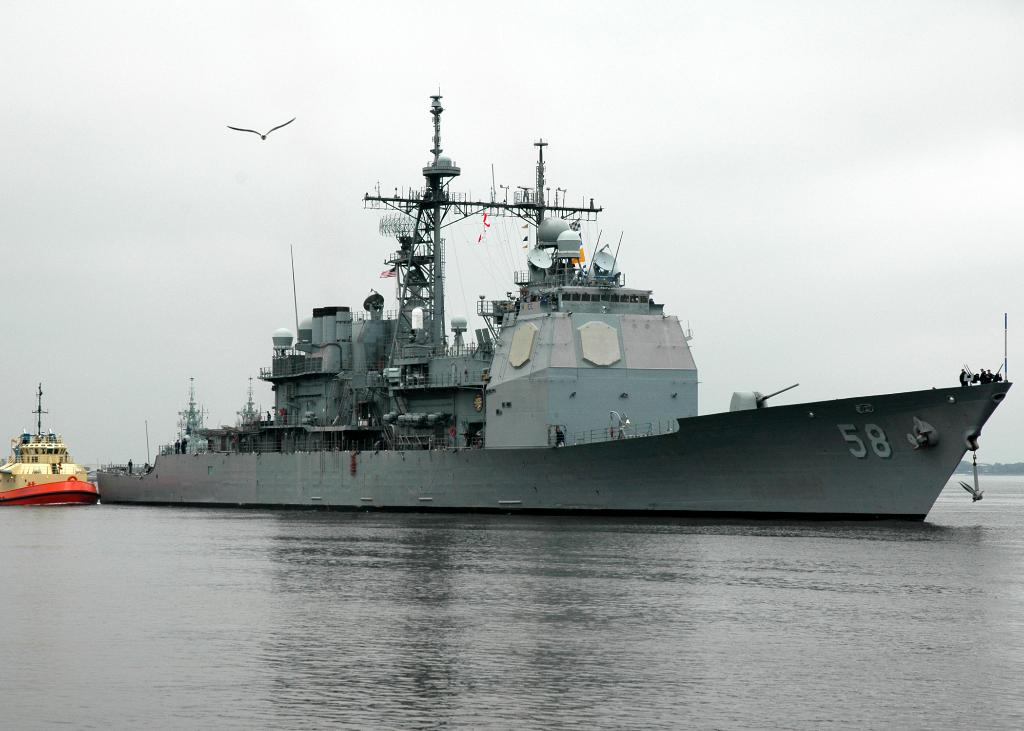Warship: (98, 79, 1016, 527)
